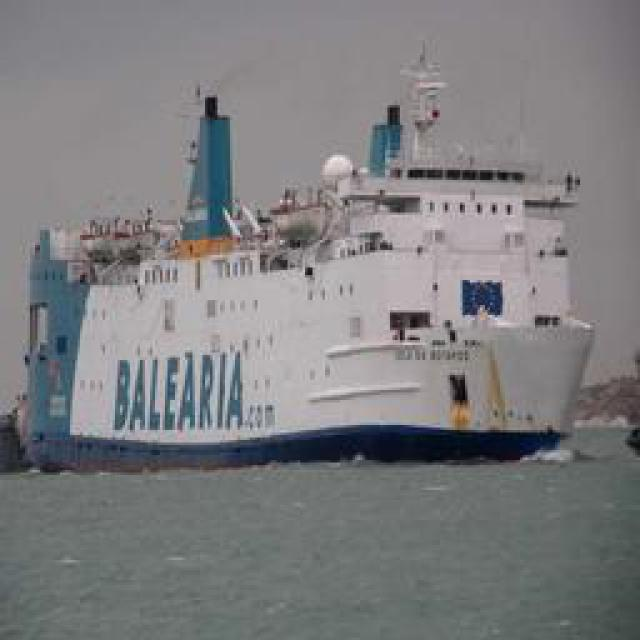Ship: (21, 41, 586, 461)
